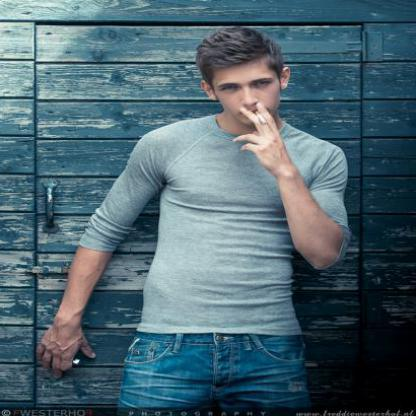cigarette: (250, 107, 267, 124)
person: (112, 21, 351, 414)
